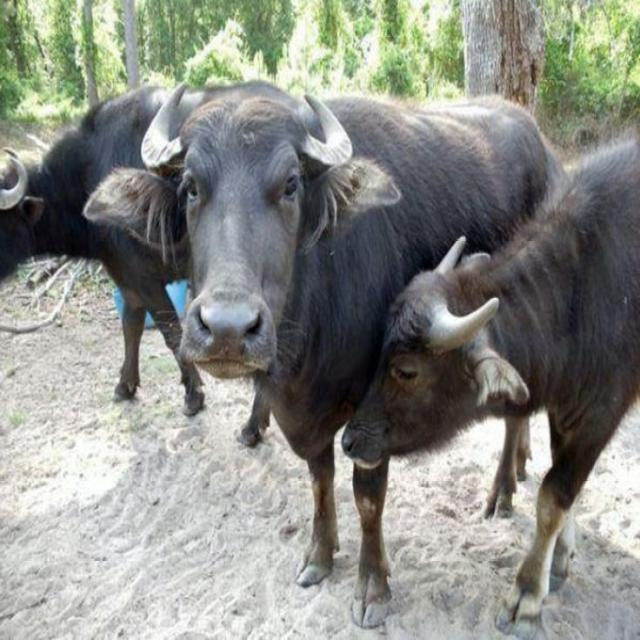Buffalo: (82, 78, 570, 594), (340, 122, 639, 635)
